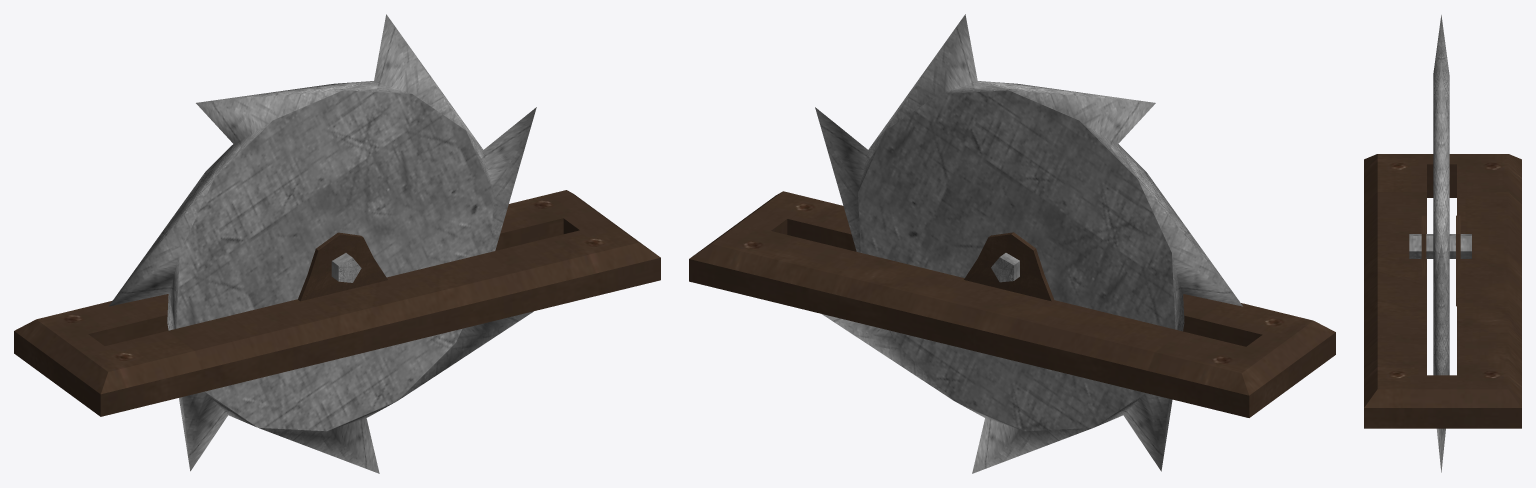
The model's file is buzzSaw.fbx.
3 renders of one model, left to right at view 1: azimuth 30°, elevation 25°; view 2: azimuth 150°, elevation 25°; view 3: azimuth 270°, elevation 25°, orthographic. The views are drawn at different scales.
Parts seen in each view (by area): view 1: polySurface16, pPlane1, polySurface3, pCylinder2; view 2: polySurface16, pPlane1, polySurface3; view 3: pPlane1, polySurface16, pCylinder2, polySurface3.
Part boxes in pixels (bbox=[...]): polySurface16: bbox=[108, 14, 536, 473]; pPlane1: bbox=[14, 190, 660, 416]; polySurface3: bbox=[298, 232, 387, 301]; pCylinder2: bbox=[331, 253, 361, 282]; polySurface16: bbox=[815, 14, 1242, 473]; pPlane1: bbox=[689, 191, 1335, 417]; polySurface3: bbox=[964, 232, 1054, 301]; pPlane1: bbox=[1364, 154, 1521, 428]; polySurface16: bbox=[1433, 15, 1449, 472]; pCylinder2: bbox=[1409, 234, 1471, 258]; polySurface3: bbox=[1421, 215, 1460, 306].
Size of the model in its own units: 52.21 by 40.82 by 13.99.
